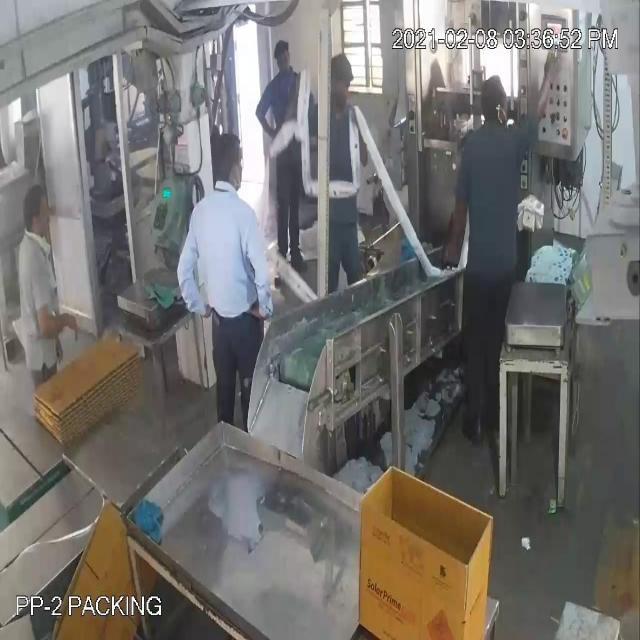No_Gloves: (26, 52, 544, 318)
